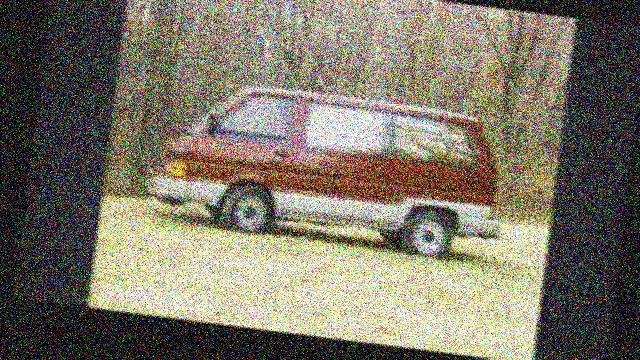van: (142, 71, 517, 261)
